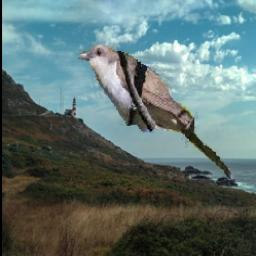Cuckoo: (77, 43, 233, 181)
